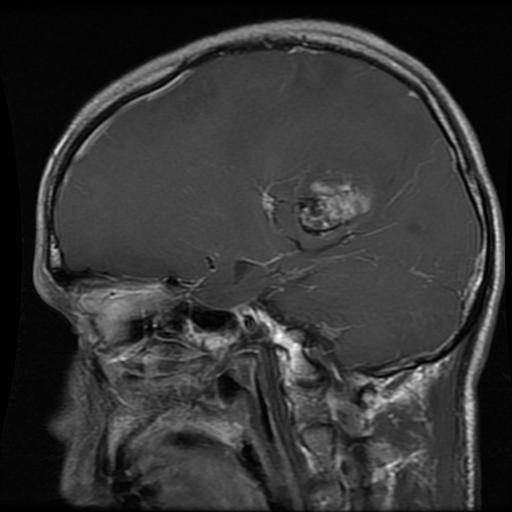Gliomia_tumour: (289, 168, 377, 237)
